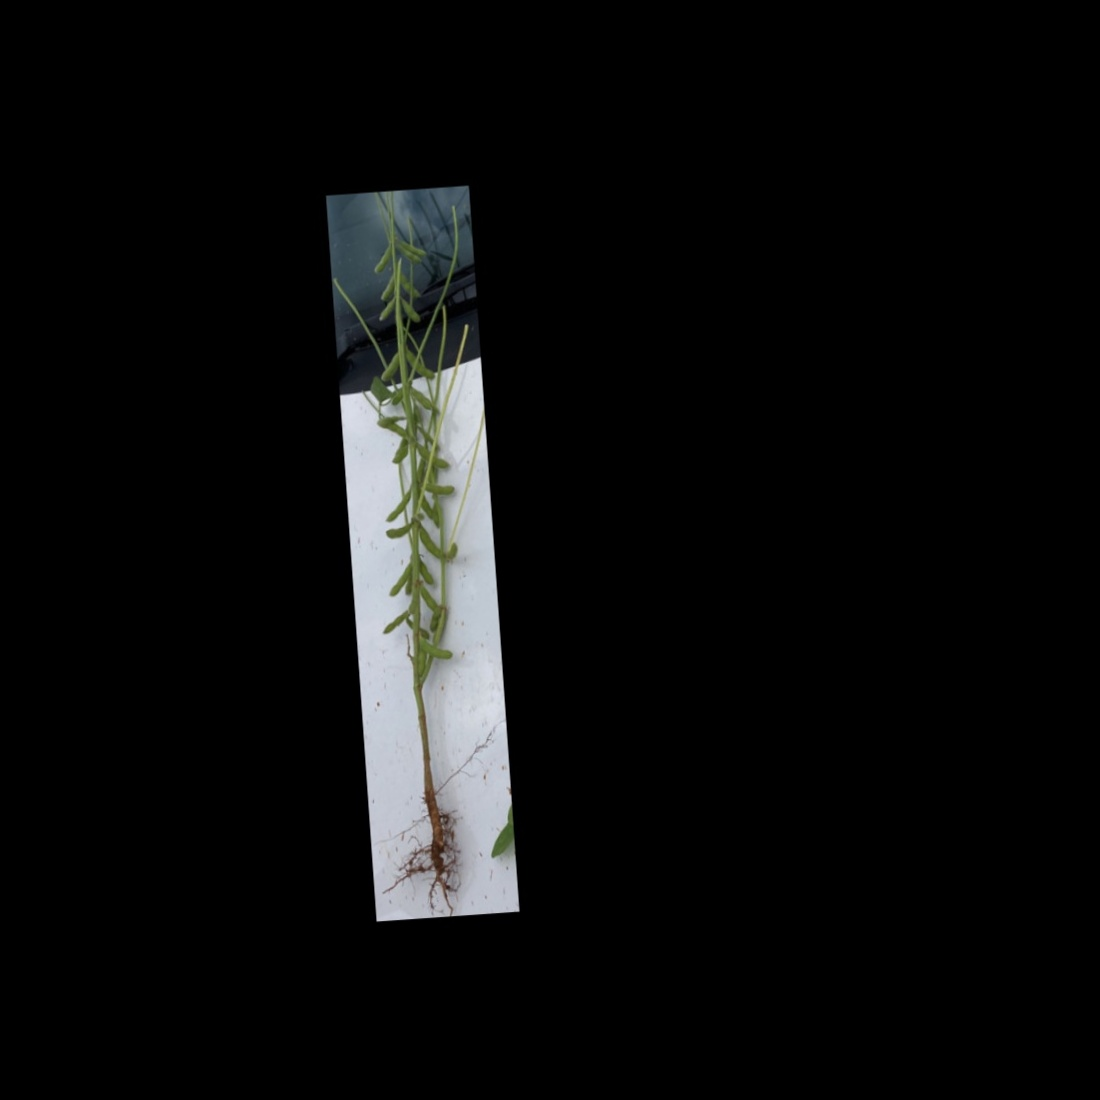pod: (403, 343, 436, 384), (413, 441, 454, 473), (384, 561, 416, 599), (415, 518, 442, 562), (383, 491, 415, 523), (409, 383, 441, 415), (379, 608, 419, 634), (420, 633, 454, 662), (417, 582, 446, 615), (396, 292, 422, 328), (392, 234, 428, 260), (371, 238, 394, 276), (376, 351, 401, 385), (392, 242, 425, 267), (398, 271, 422, 301), (382, 519, 413, 542), (378, 273, 399, 302), (421, 482, 456, 499), (374, 297, 397, 322), (426, 604, 446, 633)
soy: (346, 207, 498, 880)
